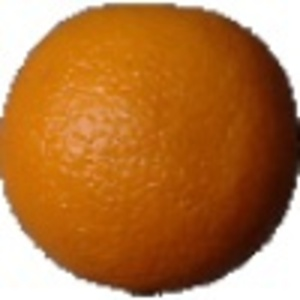laranja: (2, 2, 296, 297)
